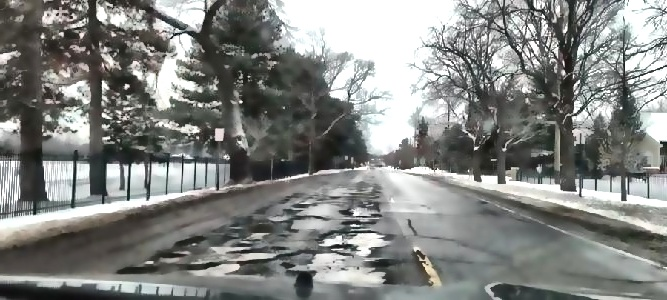pothole: (118, 262, 159, 277), (175, 233, 207, 249), (238, 244, 289, 252), (294, 271, 316, 285), (344, 218, 377, 227), (330, 242, 355, 252)
